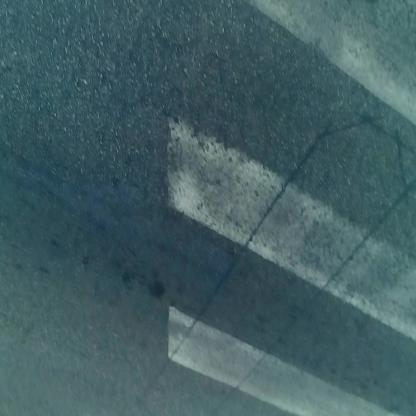crosswalk: (149, 1, 416, 406)
